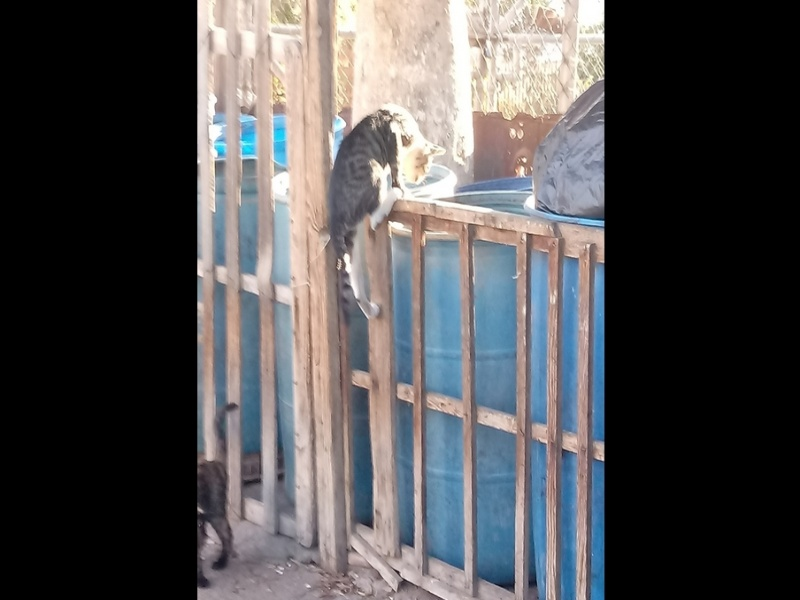cat: (322, 95, 434, 316), (199, 394, 243, 598)
